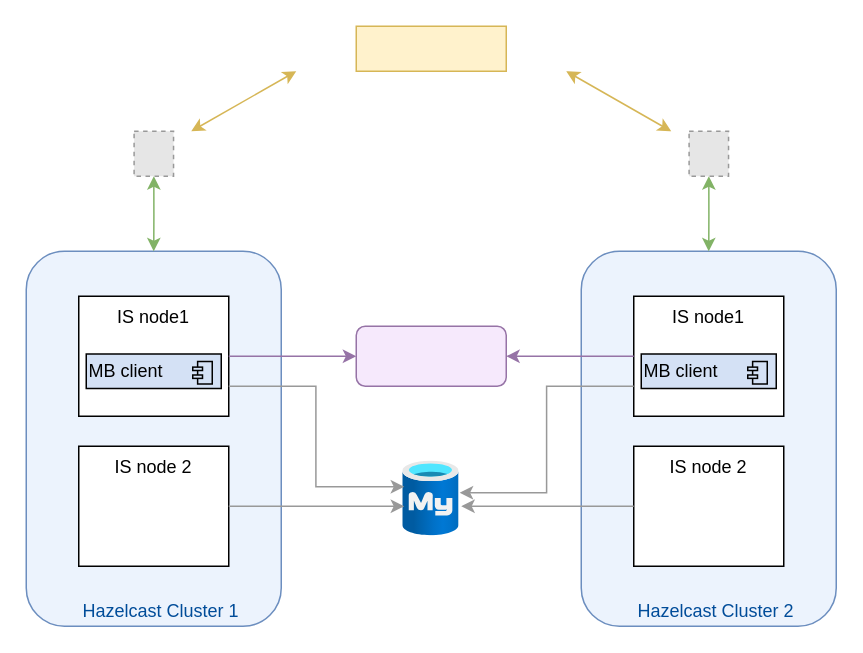
This 863x653 diagram has some shape labels left out. Grey dashed boxes stand in for pictures. Here are the shapes that lost their labels. From the top down, the centre of each, then its label:
At pixel 430 48: "AWS Load Balancer".
At pixel 430 355: "Message Broker".
